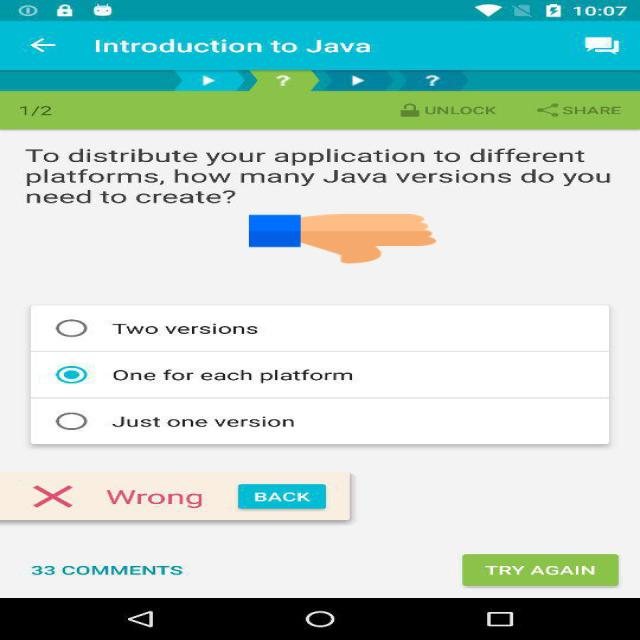obstruction: (249, 212, 436, 264)
